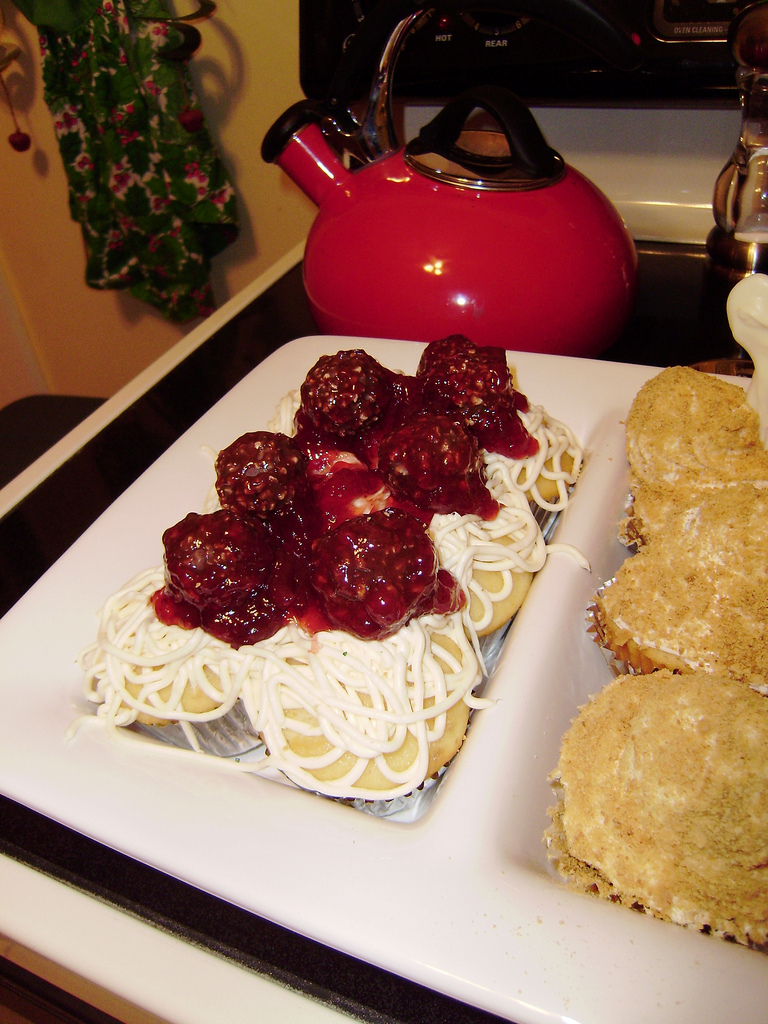meatballs: (326, 366, 459, 456), (326, 514, 445, 593), (187, 512, 276, 608)
plain spaghetti: (284, 658, 416, 718), (110, 621, 203, 693)
